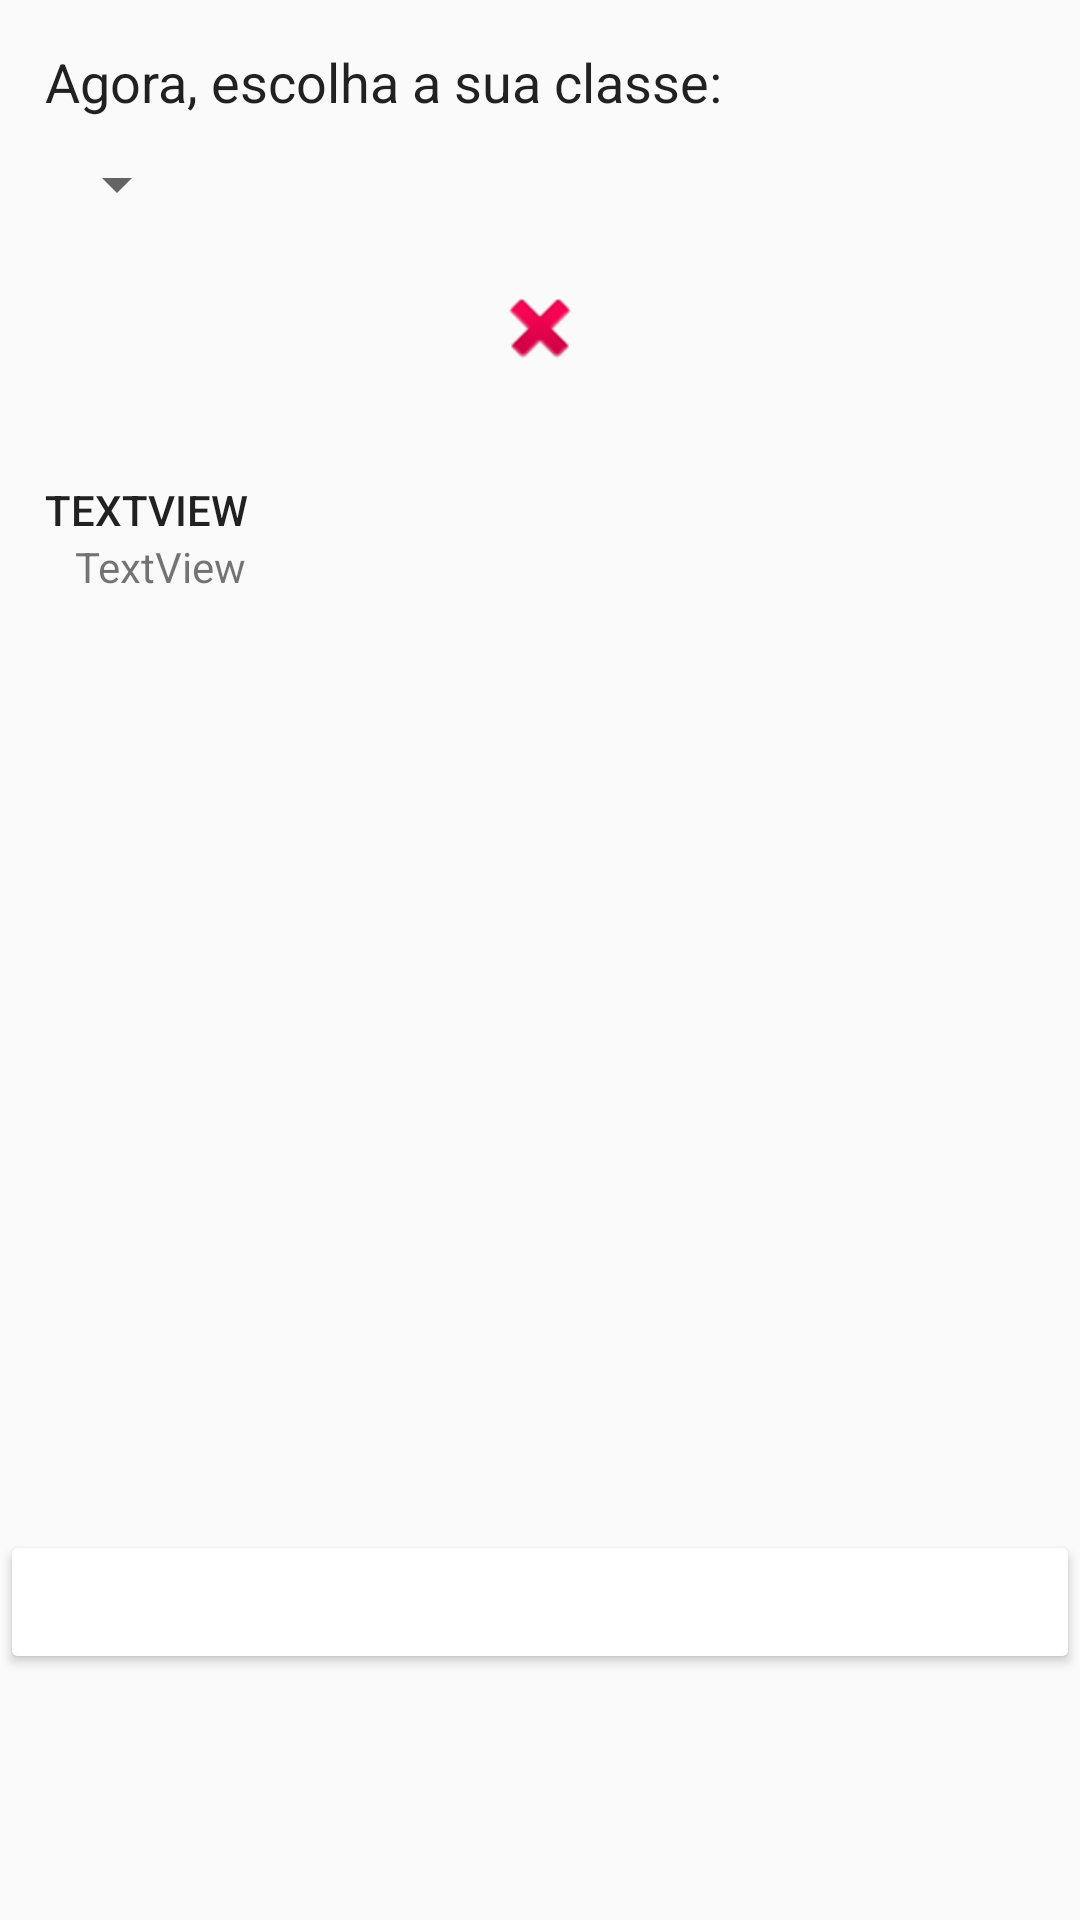

Locate icon controls on the screen. Image size 1080 × 1920, boxes as (x1,y1,x2,y2).
delete: (509,299,571,358)
